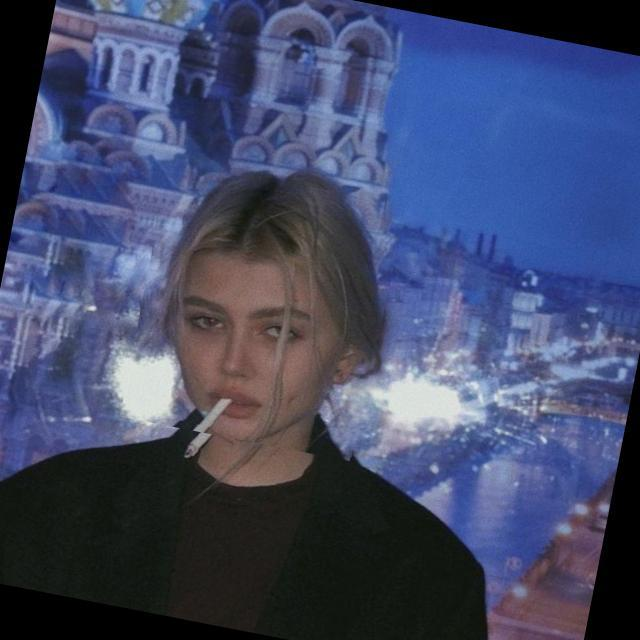cigarette: (174, 378, 244, 470)
